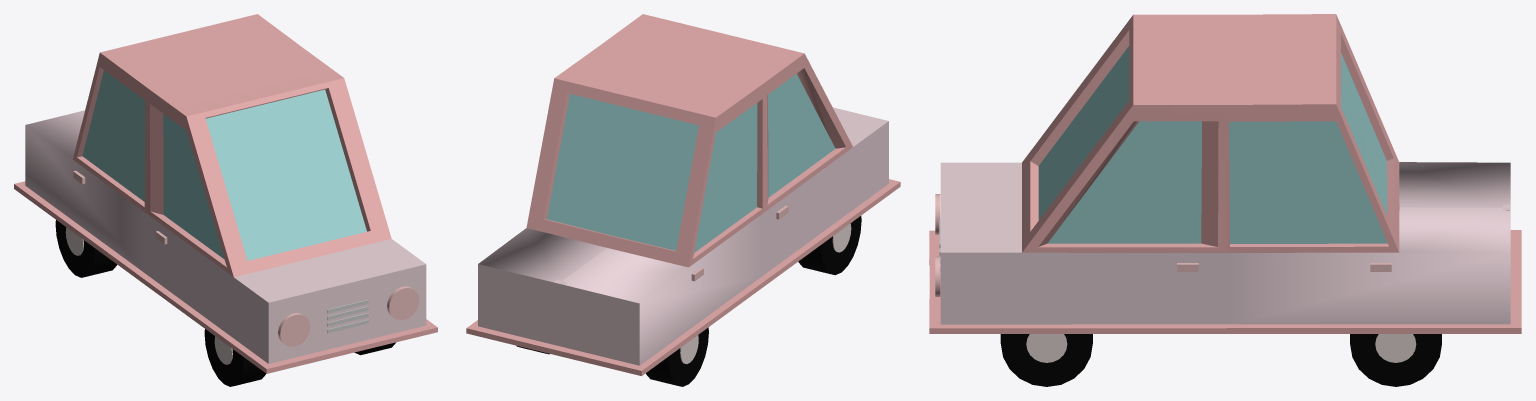
Rendered from car2.fbx.
3 views of the same model, side by side, from view 1: azimuth 30°, elevation 25°; view 2: azimuth 150°, elevation 25°; view 3: azimuth 270°, elevation 25° (orthographic). The views are drawn at different scales.
Visible parts, largest first — view 1: polySurface26; view 2: polySurface26; view 3: polySurface26.
Part boxes in pixels (x1=…): polySurface26: x1=14, y1=14, x2=437, y2=386; polySurface26: x1=466, y1=14, x2=900, y2=386; polySurface26: x1=929, y1=14, x2=1521, y2=386.
Bounding box in the file's own units: 4.58 × 6.19 × 11.72.
